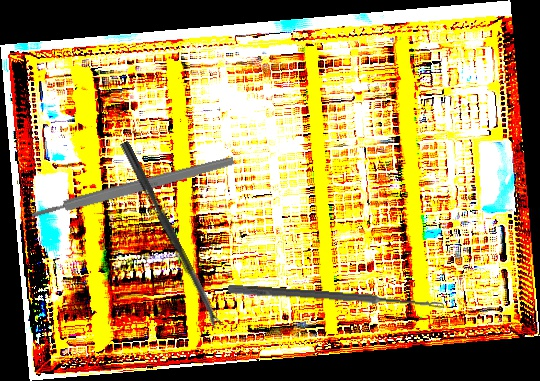Scalpel Handle: (29, 154, 236, 221)
Surgical Spoon: (119, 140, 222, 330), (227, 284, 445, 310)
